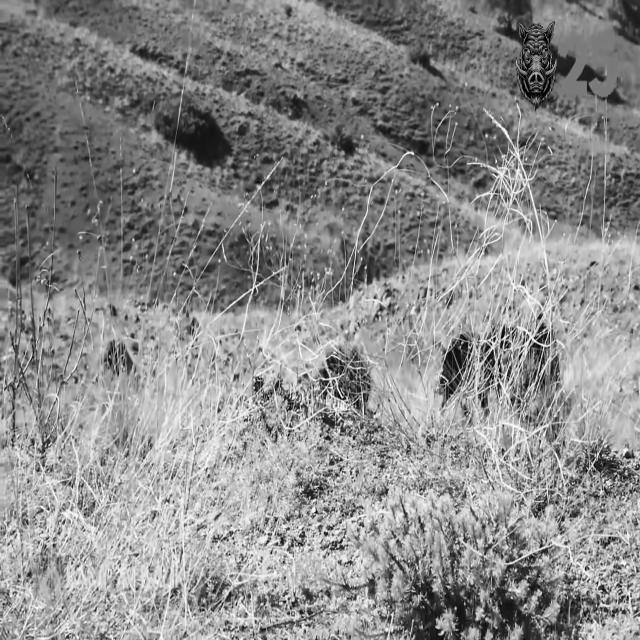boar: (440, 313, 560, 407), (515, 21, 556, 109), (320, 345, 371, 411)
